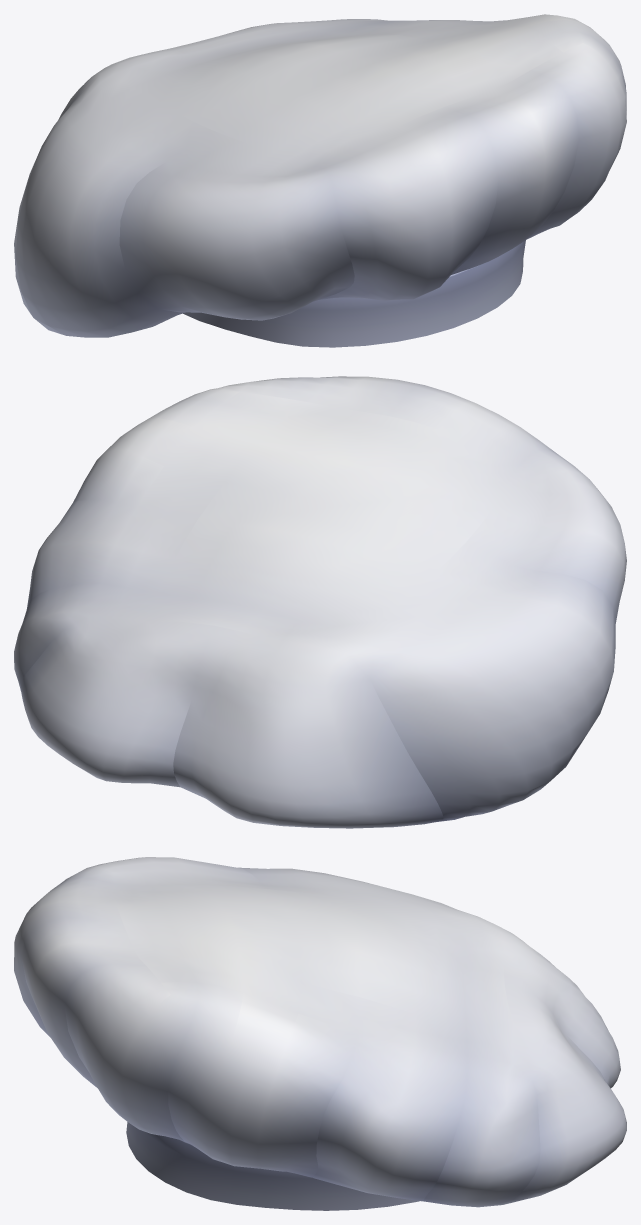
Rendered from Cap_Cheef_Hat.gltf.
3 views of the same model, one above another, from view 1: azimuth 30°, elevation 25°; view 2: azimuth 150°, elevation 25°; view 3: azimuth 270°, elevation 25° (orthographic). The views are drawn at different scales.
Visible parts, largest first — view 1: Cap_Cheef_Hat; view 2: Cap_Cheef_Hat; view 3: Cap_Cheef_Hat.
Part boxes in pixels (x1,y1,x2,y2): Cap_Cheef_Hat: (14, 14, 626, 347); Cap_Cheef_Hat: (14, 376, 626, 828); Cap_Cheef_Hat: (14, 857, 626, 1210).
Size of the model in its own units: 1.37 by 0.631 by 1.39.
2 materials, 2 textured.
